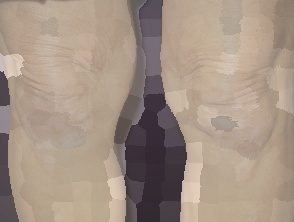vitiligo: (155, 33, 294, 194), (17, 30, 97, 160)
